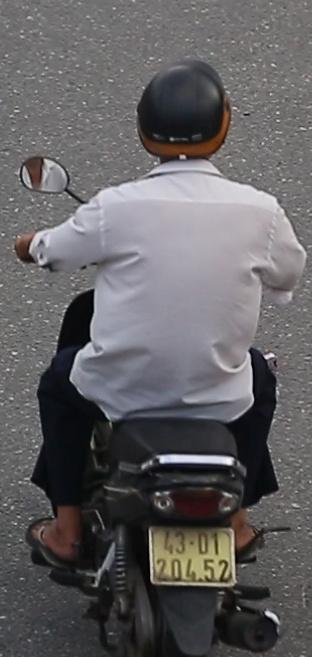LP: (141, 520, 243, 593)
helmet: (127, 48, 235, 160)
